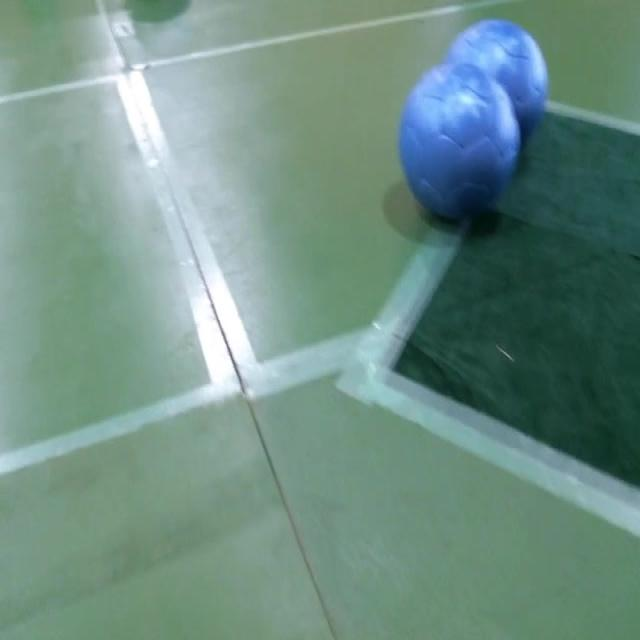blue_ball: (398, 64, 519, 228), (441, 16, 549, 142)
